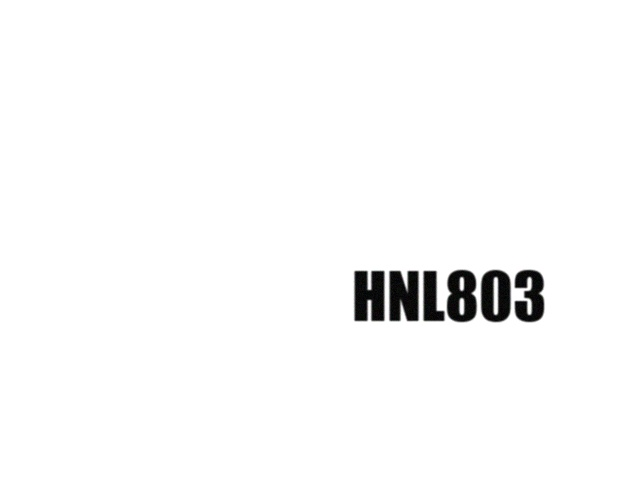OCR_AREA: (348, 266, 550, 326)
